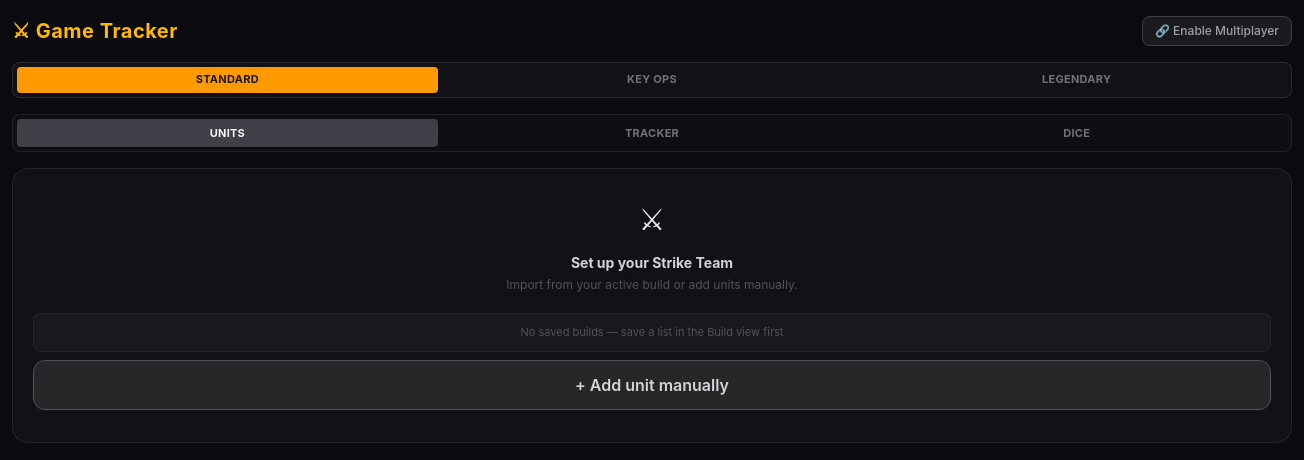
Test: PlayView › mission picker (State A — no mission selected) › shows Choose Mission label when no mission selected
Click the button "Tracker" at (652, 133), box [442,119,862,147]
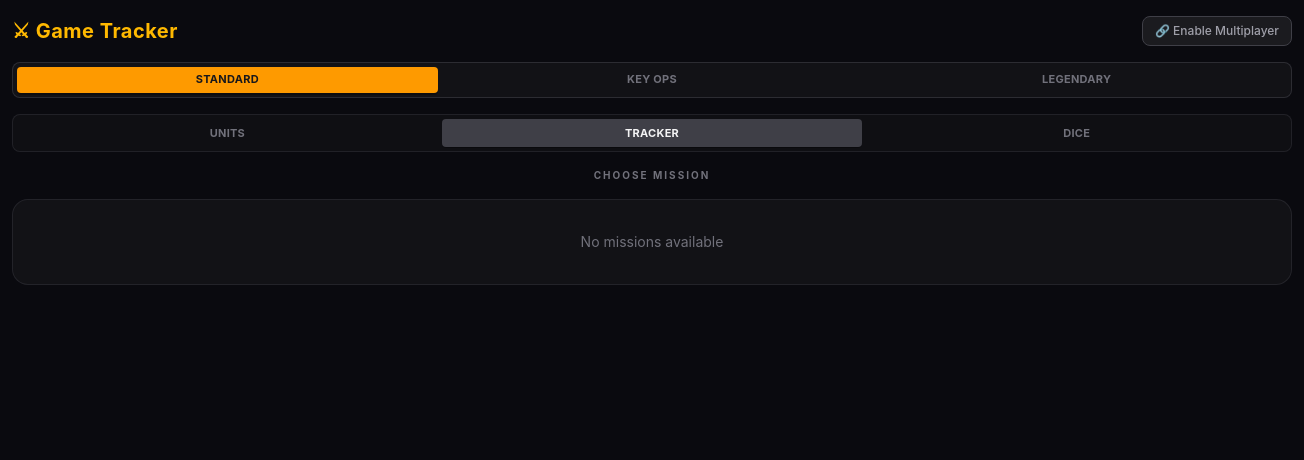
Expected: the text "Choose Mission" is shown, [594,169,710,181]
